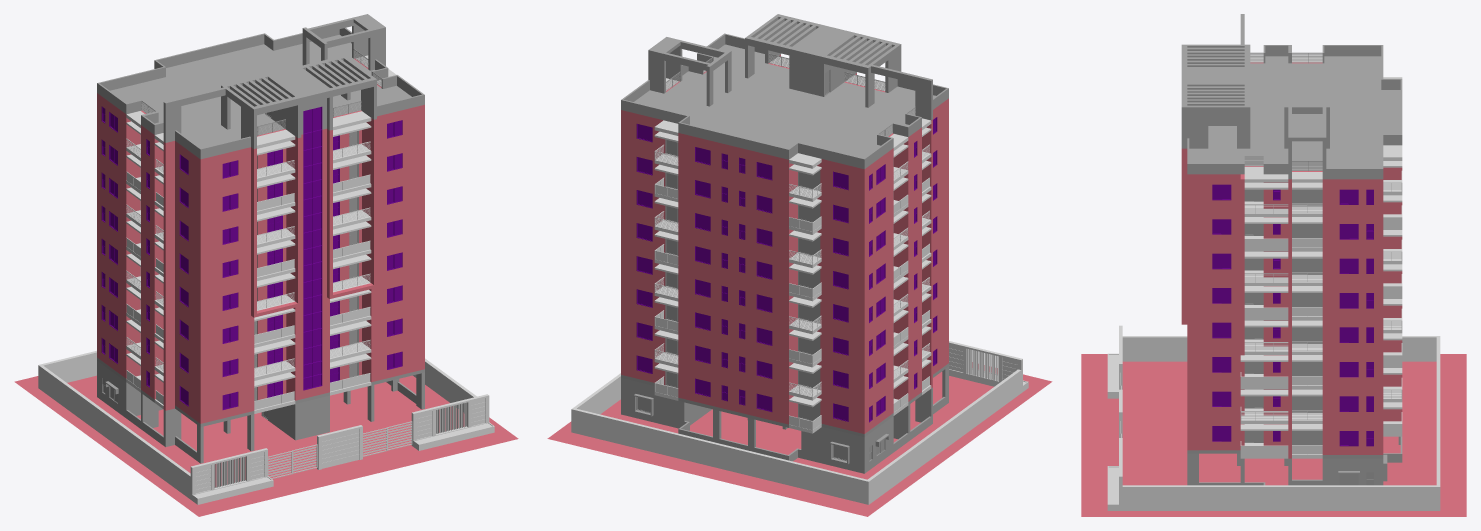
File: apartment_pink.fbx
3 views of the same model, side by side, from view 1: azimuth 30°, elevation 25°; view 2: azimuth 150°, elevation 25°; view 3: azimuth 270°, elevation 25° (orthographic). The views are drawn at different scales.
Visible parts, largest first — view 1: Apartment_Building_17_obj:AB17_OBJ_01, Apartment_Building_17_obj:AB17_OBJ_15, Apartment_Building_17_obj:AB17_OBJ_03, ten_ten7, Apartment_Building_17_obj:AB17_OBJ_09, Apartment_Building_17_obj:AB17_OBJ_19, Apartment_Building_17_obj:AB17_OBJ_07, Apartment_Building_17_obj:AB17_OBJ_06, Apartment_Building_17_obj:AB17_OBJ_12, Apartment_Building_17_obj:AB17_OBJ_11, Apartment_Building_17_obj:AB17_OBJ_10, Apartment_Building_17_obj:AB17_OBJ_14 (+1 smaller); view 2: Apartment_Building_17_obj:AB17_OBJ_04, Apartment_Building_17_obj:AB17_OBJ_15, Apartment_Building_17_obj:AB17_OBJ_03, Apartment_Building_17_obj:AB17_OBJ_11, Apartment_Building_17_obj:AB17_OBJ_09, Apartment_Building_17_obj:AB17_OBJ_12, ten_ten7, Apartment_Building_17_obj:AB17_OBJ_06, Apartment_Building_17_obj:AB17_OBJ_10, Apartment_Building_17_obj:AB17_OBJ_07, Apartment_Building_17_obj:AB17_OBJ_05, Apartment_Building_17_obj:AB17_OBJ_14 (+1 smaller); view 3: Apartment_Building_17_obj:AB17_OBJ_02, ten_ten7, Apartment_Building_17_obj:AB17_OBJ_15, Apartment_Building_17_obj:AB17_OBJ_11, Apartment_Building_17_obj:AB17_OBJ_12, Apartment_Building_17_obj:AB17_OBJ_09, Apartment_Building_17_obj:AB17_OBJ_10, Apartment_Building_17_obj:AB17_OBJ_06, Apartment_Building_17_obj:AB17_OBJ_04, Apartment_Building_17_obj:AB17_OBJ_01, Apartment_Building_17_obj:AB17_OBJ_07, Apartment_Building_17_obj:AB17_OBJ_14 (+1 smaller).
Part boxes in pixels (bbox=[...]): Apartment_Building_17_obj:AB17_OBJ_01: bbox=[199, 104, 424, 423]; Apartment_Building_17_obj:AB17_OBJ_15: bbox=[97, 14, 424, 159]; Apartment_Building_17_obj:AB17_OBJ_03: bbox=[98, 94, 199, 422]; ten_ten7: bbox=[14, 375, 518, 516]; Apartment_Building_17_obj:AB17_OBJ_09: bbox=[101, 106, 402, 409]; Apartment_Building_17_obj:AB17_OBJ_19: bbox=[254, 111, 371, 413]; Apartment_Building_17_obj:AB17_OBJ_07: bbox=[190, 394, 494, 504]; Apartment_Building_17_obj:AB17_OBJ_06: bbox=[97, 361, 424, 463]; Apartment_Building_17_obj:AB17_OBJ_12: bbox=[38, 350, 476, 499]; Apartment_Building_17_obj:AB17_OBJ_11: bbox=[126, 55, 396, 408]; Apartment_Building_17_obj:AB17_OBJ_10: bbox=[140, 131, 358, 400]; Apartment_Building_17_obj:AB17_OBJ_14: bbox=[142, 49, 381, 135]; Apartment_Building_17_obj:AB17_OBJ_04: bbox=[621, 110, 865, 433]; Apartment_Building_17_obj:AB17_OBJ_15: bbox=[621, 14, 948, 169]; Apartment_Building_17_obj:AB17_OBJ_03: bbox=[865, 99, 948, 433]; Apartment_Building_17_obj:AB17_OBJ_11: bbox=[654, 70, 931, 433]; Apartment_Building_17_obj:AB17_OBJ_09: bbox=[636, 117, 937, 422]; Apartment_Building_17_obj:AB17_OBJ_12: bbox=[571, 369, 1021, 504]; ten_ten7: bbox=[547, 362, 1052, 516]; Apartment_Building_17_obj:AB17_OBJ_06: bbox=[621, 366, 948, 473]; Apartment_Building_17_obj:AB17_OBJ_10: bbox=[665, 139, 893, 421]; Apartment_Building_17_obj:AB17_OBJ_07: bbox=[949, 341, 1028, 392]; Apartment_Building_17_obj:AB17_OBJ_05: bbox=[621, 363, 948, 437]; Apartment_Building_17_obj:AB17_OBJ_14: bbox=[666, 53, 915, 136]; Apartment_Building_17_obj:AB17_OBJ_02: bbox=[1189, 166, 1381, 458]; ten_ten7: bbox=[1081, 354, 1466, 516]; Apartment_Building_17_obj:AB17_OBJ_15: bbox=[1181, 14, 1402, 179]; Apartment_Building_17_obj:AB17_OBJ_11: bbox=[1240, 55, 1402, 458]; Apartment_Building_17_obj:AB17_OBJ_12: bbox=[1122, 336, 1440, 510]; Apartment_Building_17_obj:AB17_OBJ_09: bbox=[1212, 184, 1373, 446]; Apartment_Building_17_obj:AB17_OBJ_10: bbox=[1244, 189, 1322, 444]; Apartment_Building_17_obj:AB17_OBJ_06: bbox=[1187, 436, 1402, 485]; Apartment_Building_17_obj:AB17_OBJ_04: bbox=[1381, 167, 1402, 454]; Apartment_Building_17_obj:AB17_OBJ_01: bbox=[1181, 148, 1189, 450]; Apartment_Building_17_obj:AB17_OBJ_07: bbox=[1107, 325, 1122, 510]; Apartment_Building_17_obj:AB17_OBJ_14: bbox=[1244, 52, 1322, 170].
Size of the model in its own units: 10 by 10.37 by 10.
